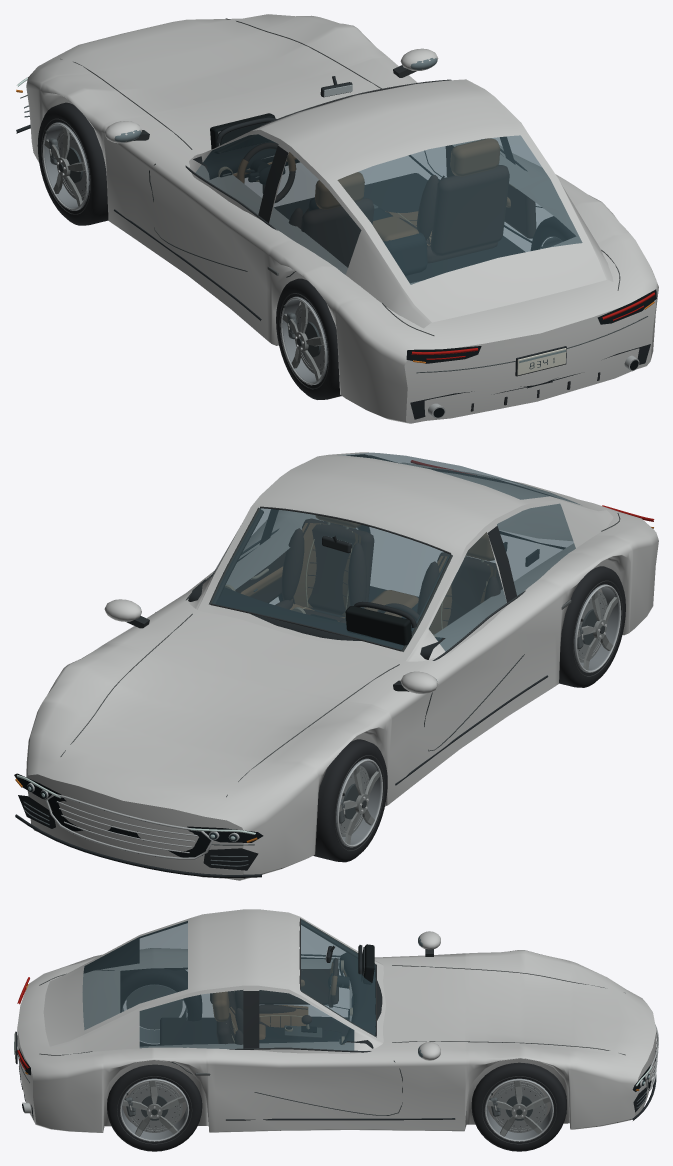
The model's file is sterling-gt.glb.
3 renders of one model, top to bottom at view 1: azimuth 30°, elevation 25°; view 2: azimuth 150°, elevation 25°; view 3: azimuth 270°, elevation 25°, orthographic. The views are drawn at different scales.
Parts seen in each view (by area): view 1: paint, glass, wheelSurface (×3), SeatUpholstery, CabinMouldings, trim, CabinLeather, SteeringLeather; view 2: paint, glass, wheelSurface (×2), trim, SeatUpholstery, CabinMouldings, CabinLeather; view 3: paint, glass, wheelSurface (×3), trim, CabinMouldings, SeatUpholstery, CabinLeather, CockpitHardware.
Boxes of the visible parts, left/top/right/bottom form: paint: left=26, top=14, right=658, bottom=423; glass: left=114, top=58, right=582, bottom=284; wheelSurface (×3): left=37, top=102, right=575, bottom=399; SeatUpholstery: left=289, top=138, right=509, bottom=267; CabinMouldings: left=193, top=76, right=524, bottom=282; trim: left=16, top=18, right=656, bottom=419; CabinLeather: left=233, top=145, right=535, bottom=240; SteeringLeather: left=237, top=143, right=295, bottom=202; paint: left=26, top=452, right=658, bottom=880; glass: left=140, top=452, right=579, bottom=679; wheelSurface (×2): left=313, top=566, right=625, bottom=862; trim: left=14, top=454, right=620, bottom=877; SeatUpholstery: left=275, top=515, right=502, bottom=634; CabinMouldings: left=188, top=535, right=445, bottom=659; CabinLeather: left=235, top=552, right=418, bottom=621; paint: left=17, top=909, right=656, bottom=1132; glass: left=82, top=919, right=422, bottom=1057; wheelSurface (×3): left=107, top=968, right=566, bottom=1151; trim: left=14, top=918, right=658, bottom=1120; CabinMouldings: left=160, top=944, right=382, bottom=1048; SeatUpholstery: left=213, top=990, right=307, bottom=1044; CabinLeather: left=210, top=969, right=349, bottom=1039; CockpitHardware: left=284, top=946, right=364, bottom=1044.
Bounding box in the file's own units: 2.13 × 1.28 × 4.7.
